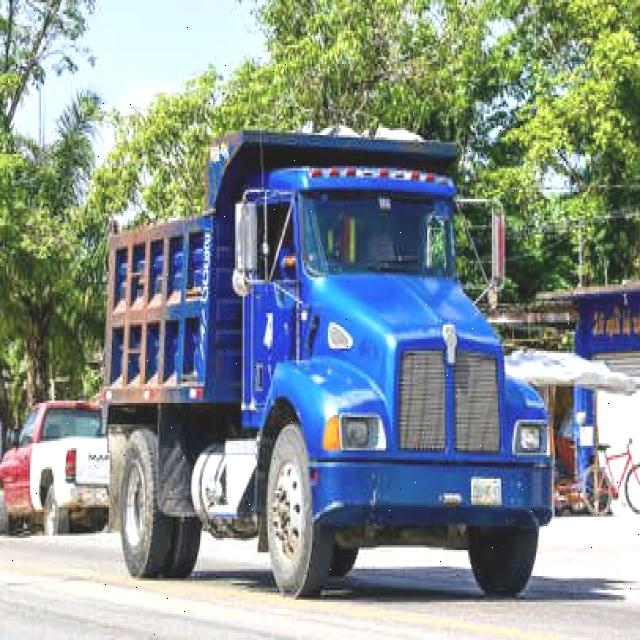Excavator: (0, 394, 112, 540)
